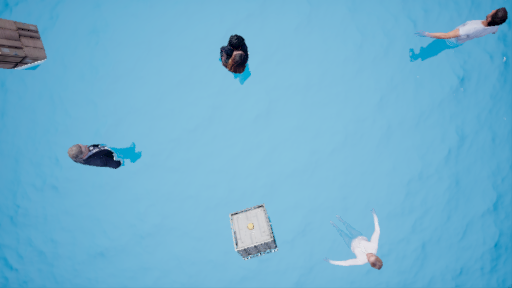person: (413, 8, 505, 68), (320, 213, 390, 270), (65, 139, 143, 178), (217, 35, 252, 94)
